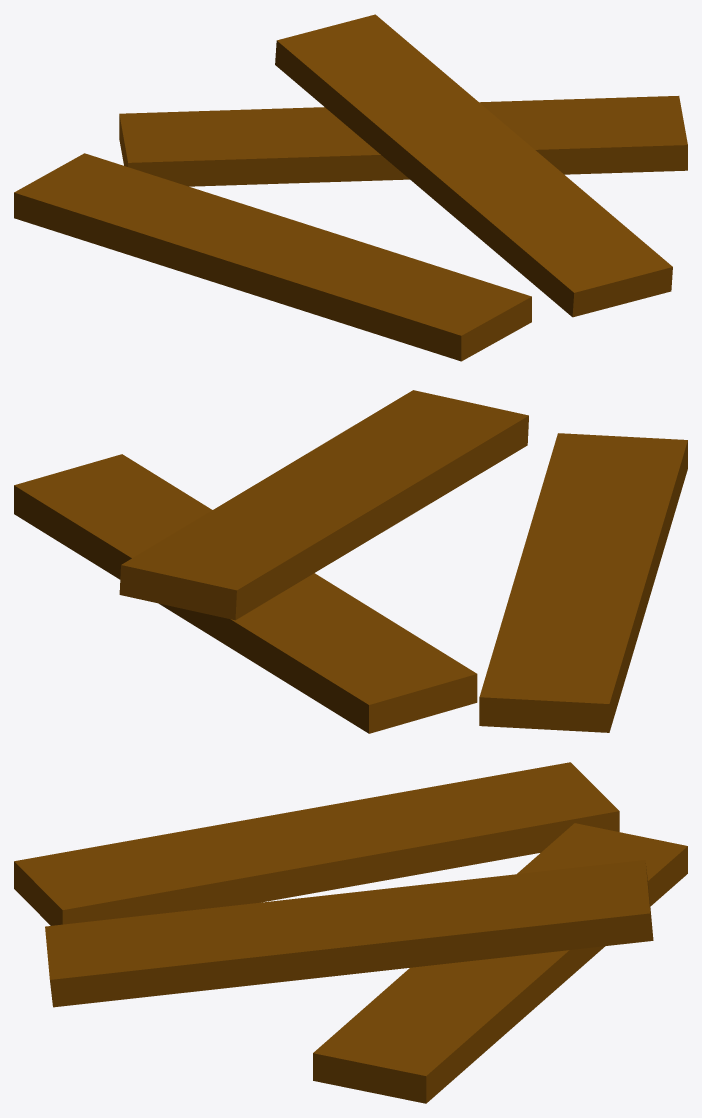
Rendered from Planks.fbx.
3 views of the same model, one above another, from view 1: azimuth 30°, elevation 25°; view 2: azimuth 150°, elevation 25°; view 3: azimuth 270°, elevation 25° (orthographic). The views are drawn at different scales.
Parts seen in each view (by area): view 1: pCube5; view 2: pCube5; view 3: pCube5.
Boxes of the visible parts, left/top/right/bottom form: pCube5: left=14, top=14, right=687, bottom=361; pCube5: left=14, top=390, right=687, bottom=733; pCube5: left=14, top=762, right=687, bottom=1103.
Bounding box in the file's own units: 5.07 × 0.6466 × 4.59.
